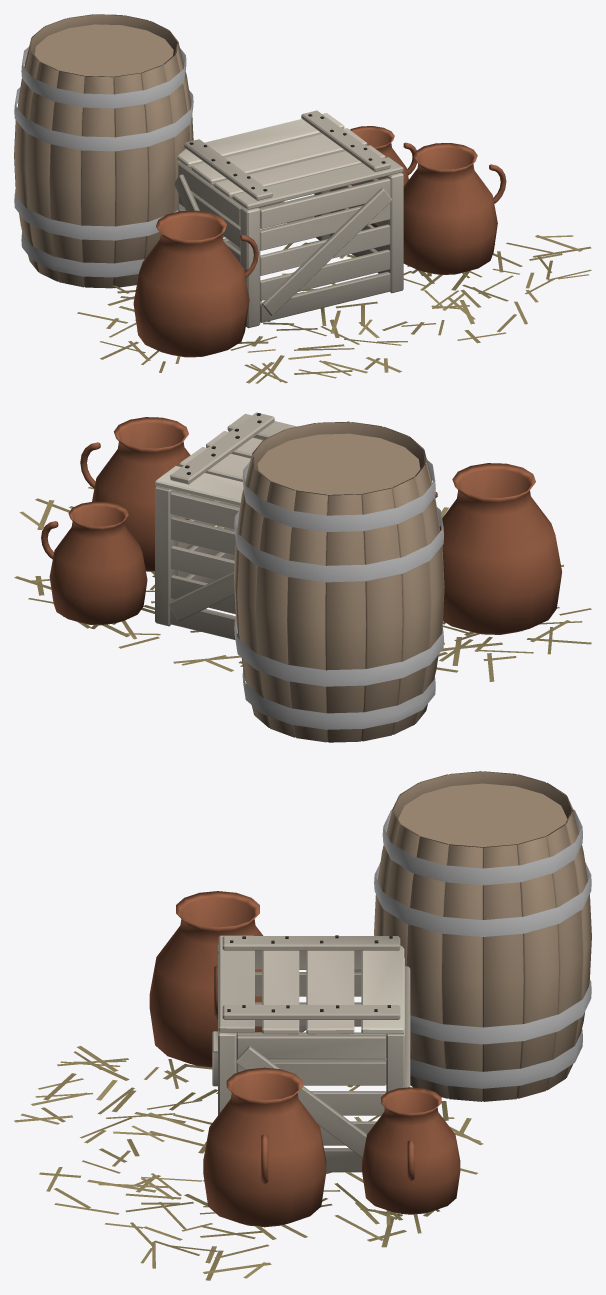
The model's file is heap_pots.glb.
The picture shows the model from 3 angles, top to bottom: view 1: azimuth 30°, elevation 25°; view 2: azimuth 150°, elevation 25°; view 3: azimuth 270°, elevation 25°; orthographic projection. The views are drawn at different scales.
Visible parts, largest first — view 1: heap_pots; view 2: heap_pots; view 3: heap_pots.
Boxes of the visible parts, x1=… form: heap_pots: x1=14, y1=14, x2=591, y2=383; heap_pots: x1=14, y1=412, x2=591, y2=742; heap_pots: x1=14, y1=771, x2=591, y2=1280.
Size of what is drawn, in the model's own units: 2.16 by 0.9 by 1.85.
